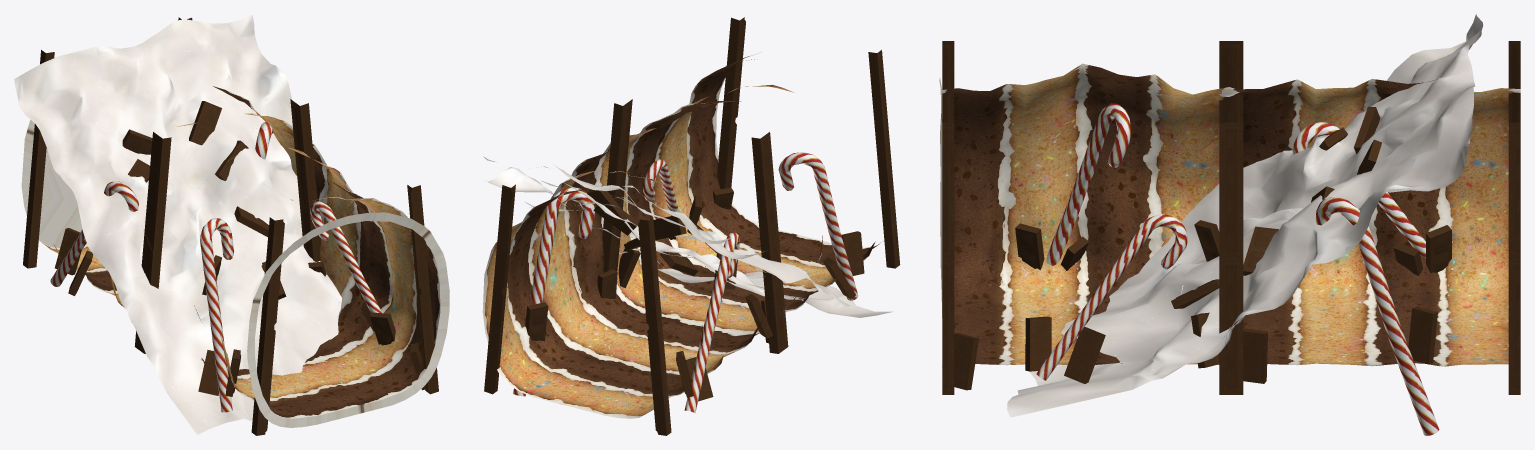
File: mine_tnl_collapse_xmas variant.glb
3 renders of one model, left to right at view 1: azimuth 30°, elevation 25°; view 2: azimuth 150°, elevation 25°; view 3: azimuth 270°, elevation 25°, orthographic. The views are drawn at different scales.
Visible parts, largest first — view 1: mine_tnl_collapse_xmas_LOD0; view 2: mine_tnl_collapse_xmas_LOD0; view 3: mine_tnl_collapse_xmas_LOD0.
Part boxes in pixels (x1,y1,x2,y2): mine_tnl_collapse_xmas_LOD0: (14,15,449,435); mine_tnl_collapse_xmas_LOD0: (482,17,900,435); mine_tnl_collapse_xmas_LOD0: (939,14,1520,435).
Bounding box in the file's own units: 7 × 7.29 × 12.06.
Materials: 3 (3 with a texture image).
